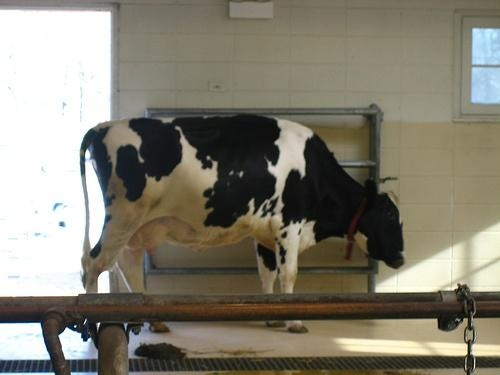cow: (65, 117, 411, 347)
